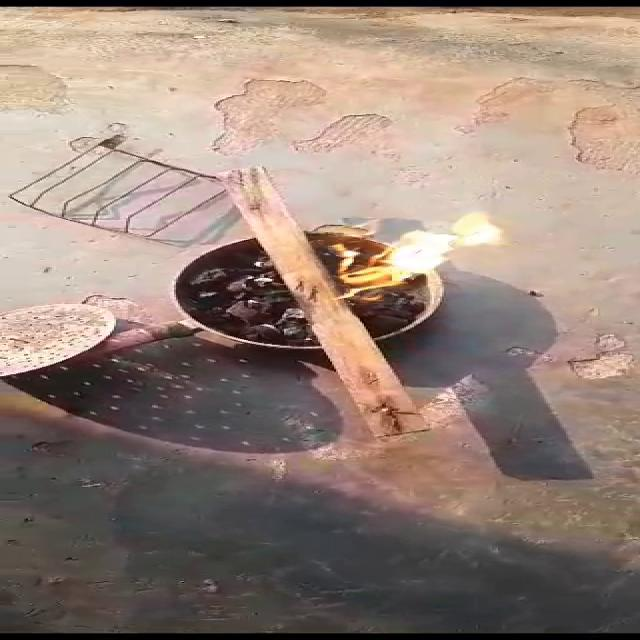Fire: (320, 208, 510, 299)
